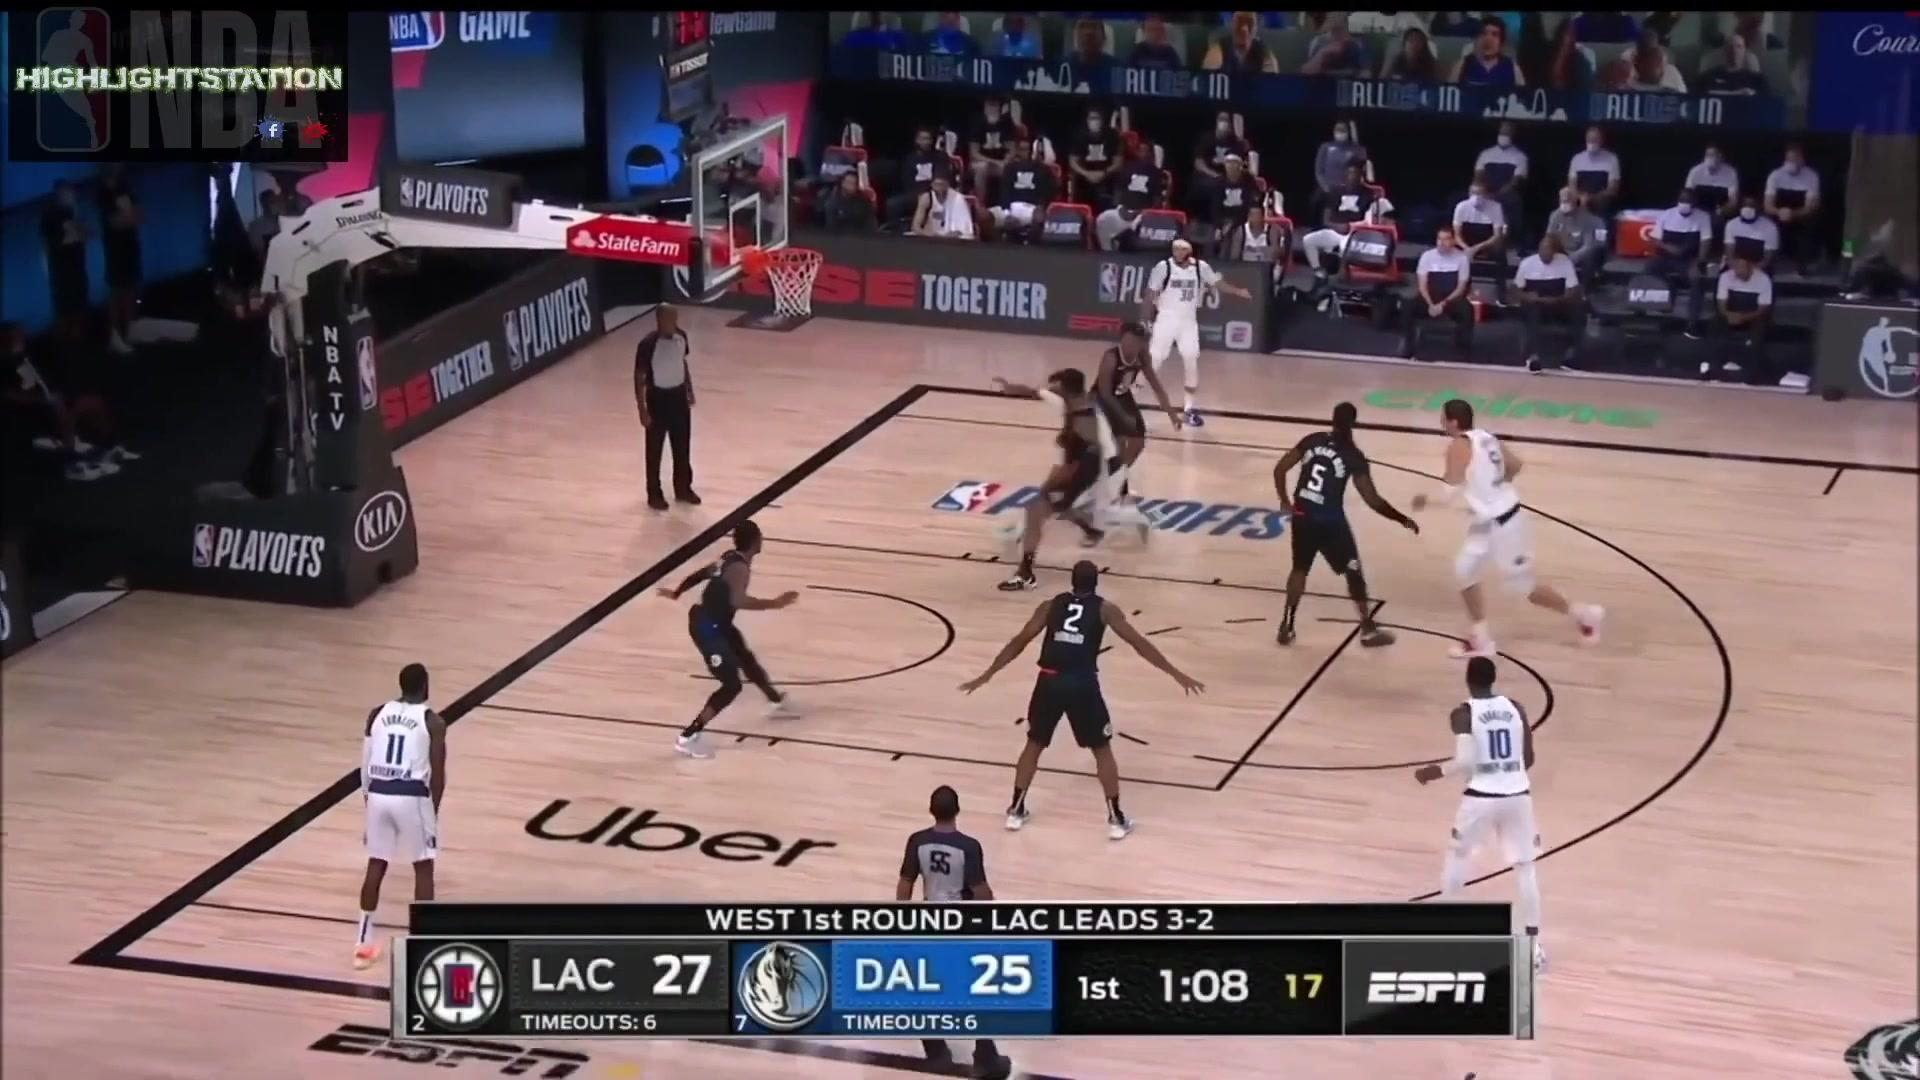no_foul: (988, 361, 1142, 588)
